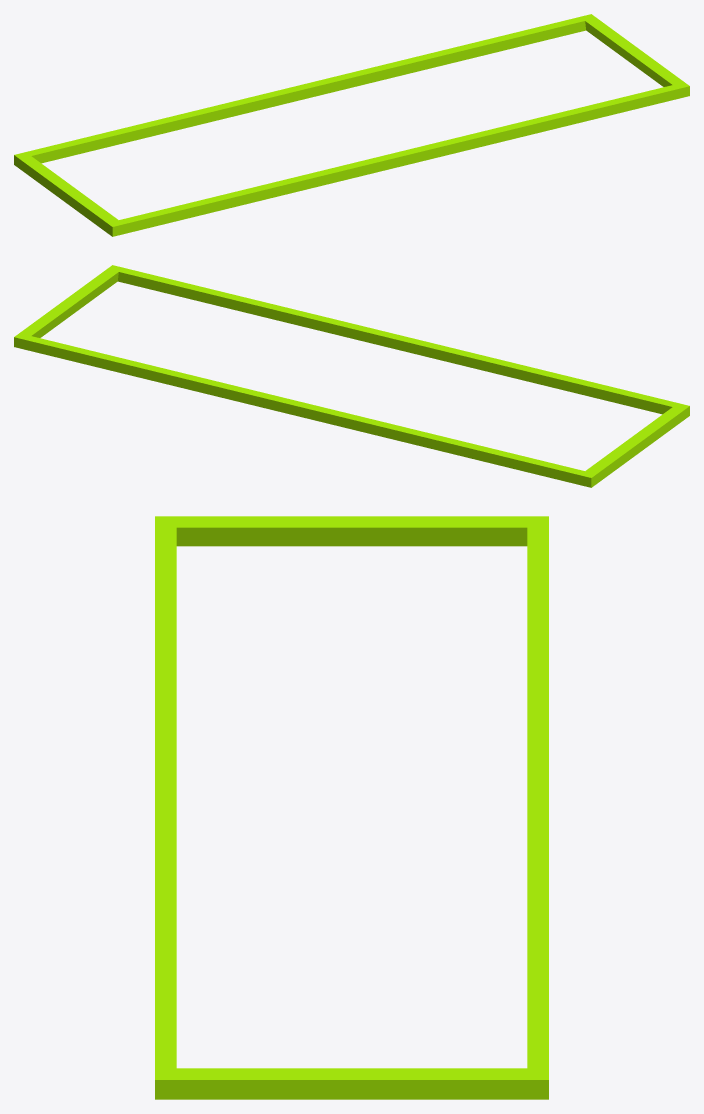
Rendered from AttackFrame.fbx.
3 views of the same model, one above another, from view 1: azimuth 30°, elevation 25°; view 2: azimuth 150°, elevation 25°; view 3: azimuth 270°, elevation 25° (orthographic). The views are drawn at different scales.
Parts seen in each view (by area): view 1: 立方体.001; view 2: 立方体.001; view 3: 立方体.001.
Boxes of the visible parts, <box> form: 立方体.001: <box>14,14,689,236</box>; 立方体.001: <box>14,265,689,487</box>; 立方体.001: <box>155,516,548,1099</box>.
Bounding box in the file's own units: 143 × 2.34 × 42.34.
Materials: 1 (1 with a texture image).
